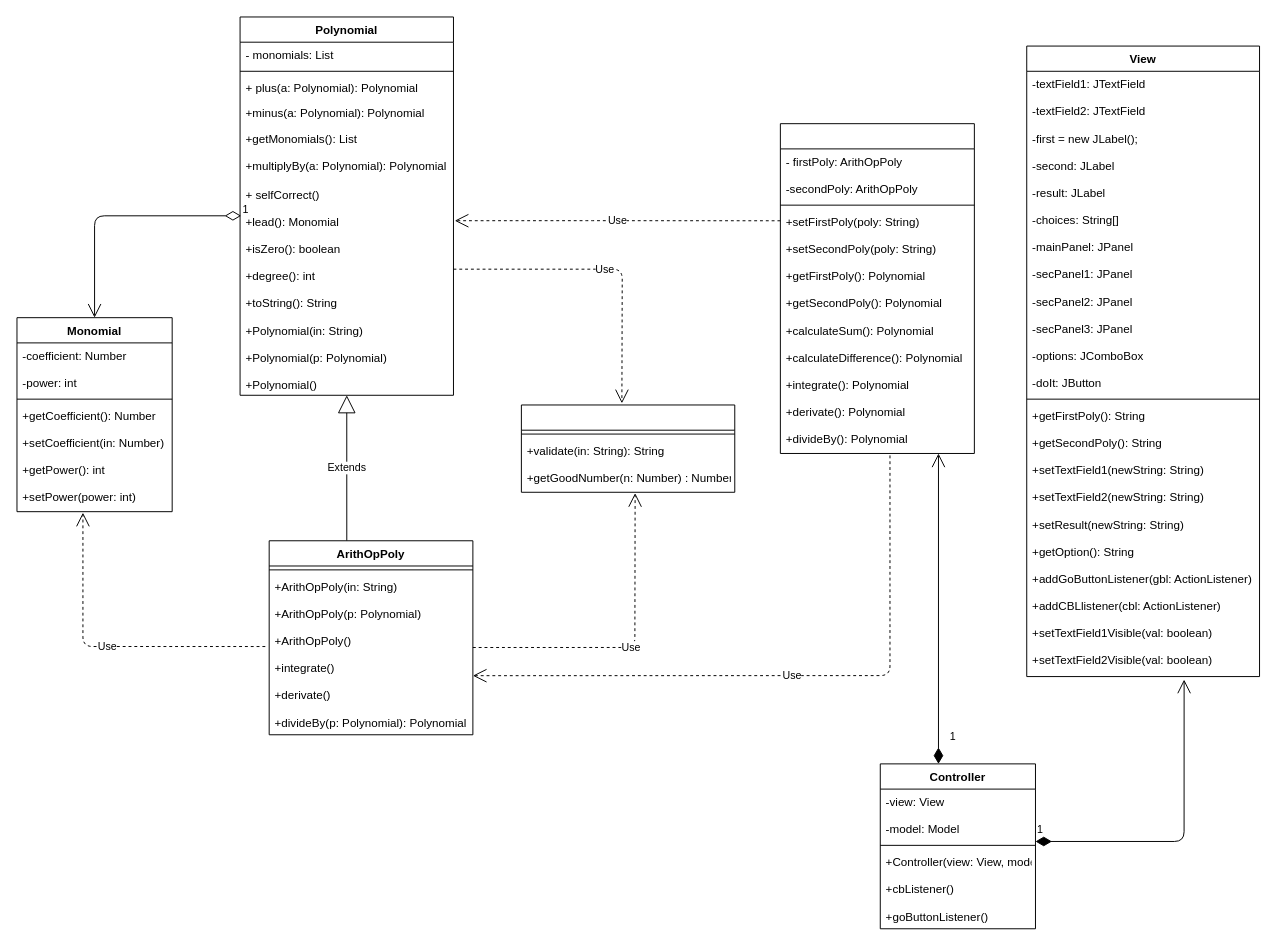
This 1277x949 diagram has some shape labels left out. Here are the shapes that lost their labels. From the top down, the box of each, then its label:
(779, 123, 974, 453): Model
(520, 404, 735, 492): Validation
